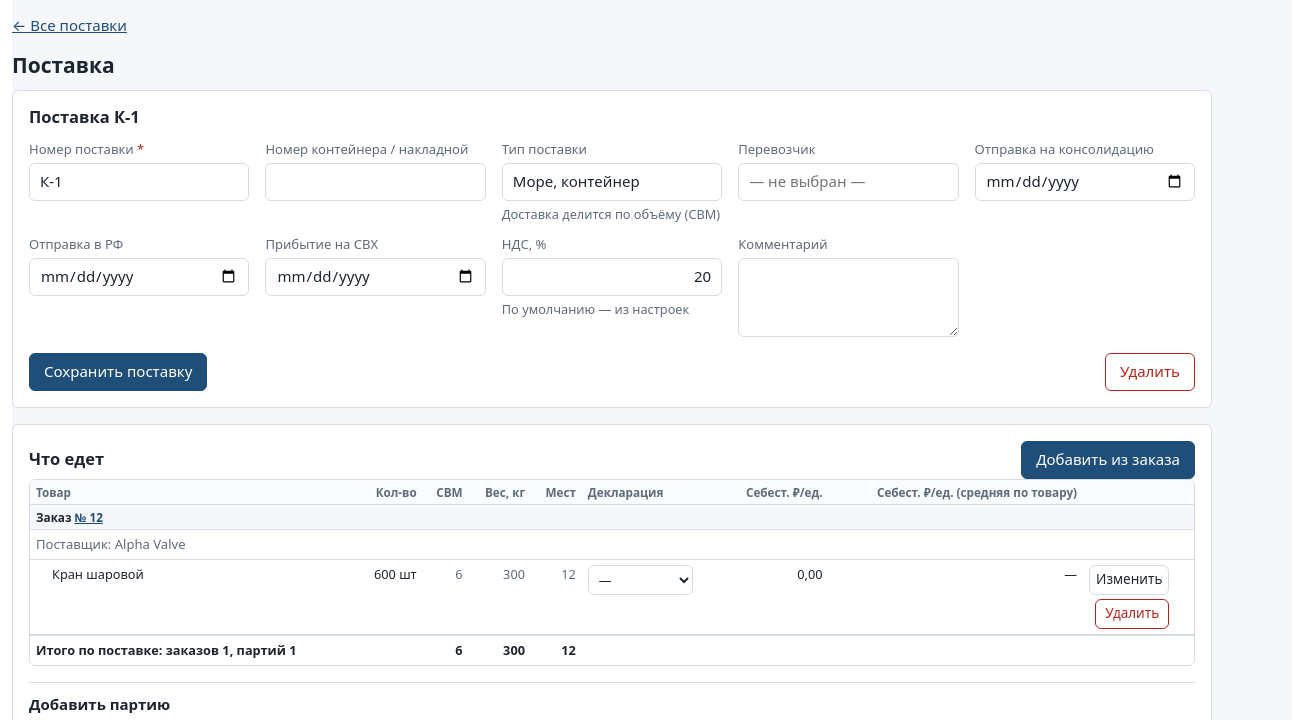
Test case: партии › правка партии проверяет остаток с учётом других партий позиции
Click the button "Изменить": (1129, 580) [1089, 565, 1170, 595]
(page scrolled)
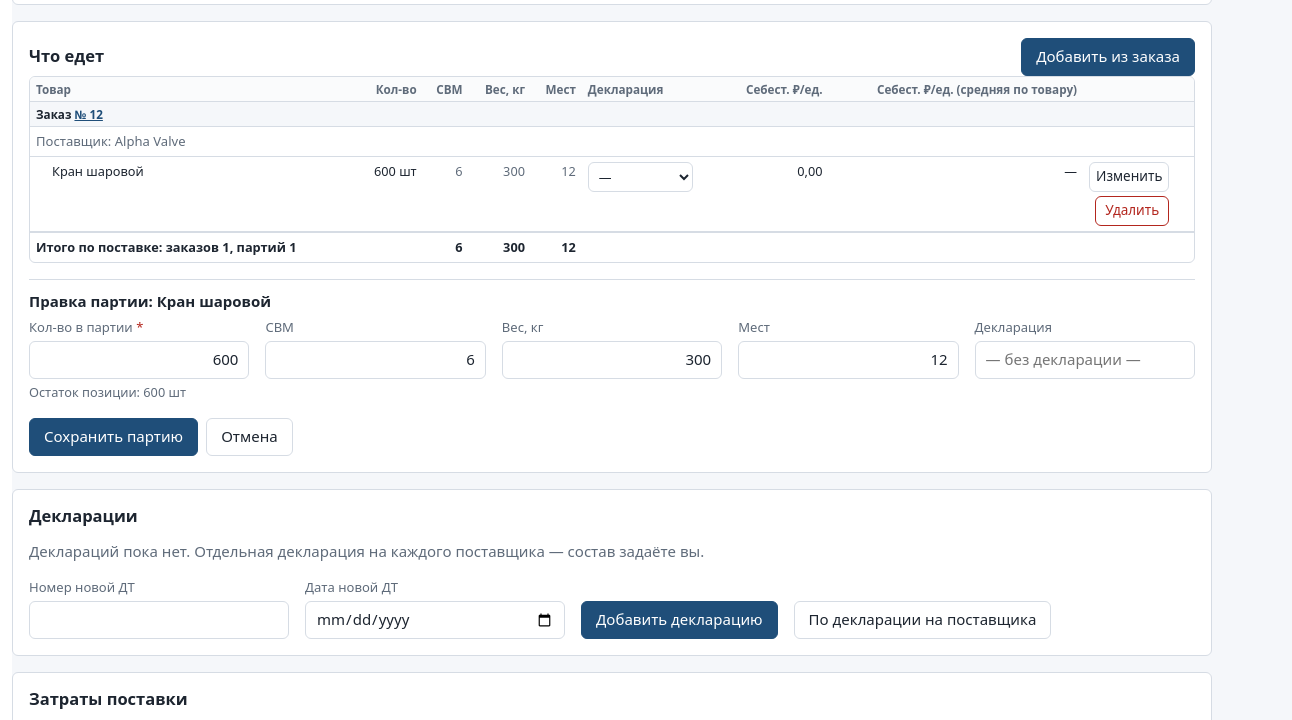
Replace the text in the field labelled "Кол-во в партии *" with "700": (139, 360) [29, 341, 249, 379]
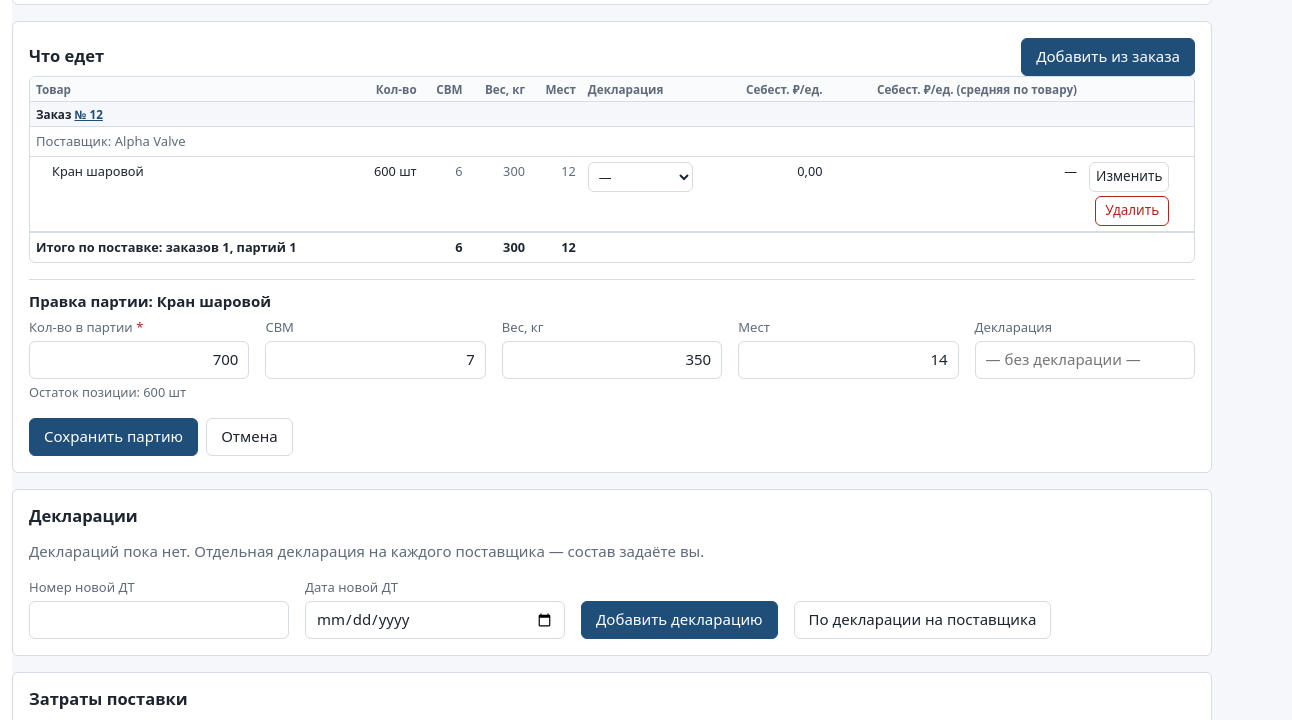
Click the button "Сохранить партию": (114, 437) [29, 418, 198, 456]
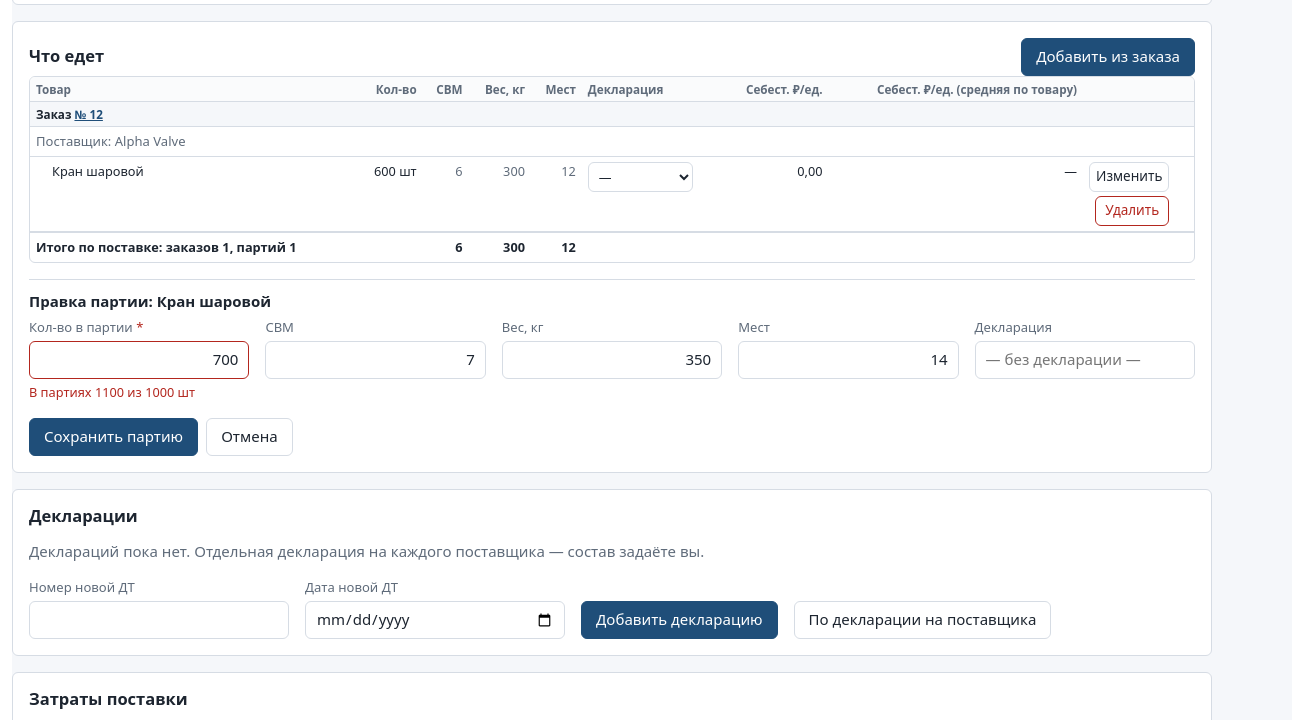
Now the text "В партиях 1100 из 1000 шт" is shown, box [29, 383, 195, 401]
